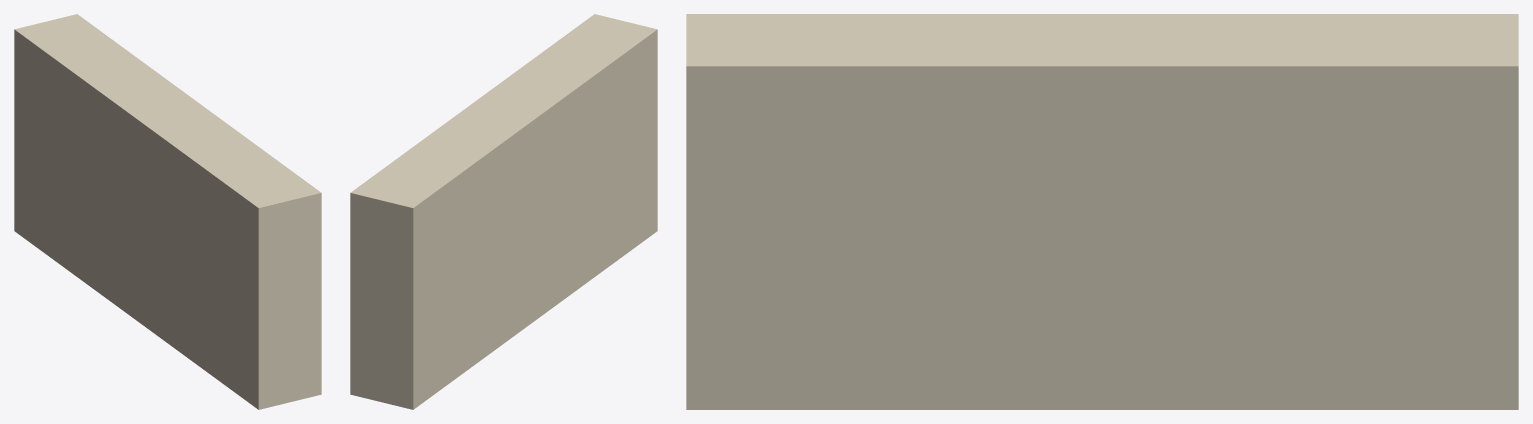
3 renders of one model, left to right at view 1: azimuth 30°, elevation 25°; view 2: azimuth 150°, elevation 25°; view 3: azimuth 270°, elevation 25°, orthographic. The views are drawn at different scales.
Parts seen in each view (by area): view 1: A-GF-WINDOW-005-SILL; view 2: A-GF-WINDOW-005-SILL; view 3: A-GF-WINDOW-005-SILL.
Part boxes in pixels (x1,y1,x2,y2): A-GF-WINDOW-005-SILL: (14, 14, 321, 409); A-GF-WINDOW-005-SILL: (350, 14, 657, 409); A-GF-WINDOW-005-SILL: (686, 14, 1518, 409).
Bounding box in the file's own units: 0.2678 × 0.82 × 1.8.
